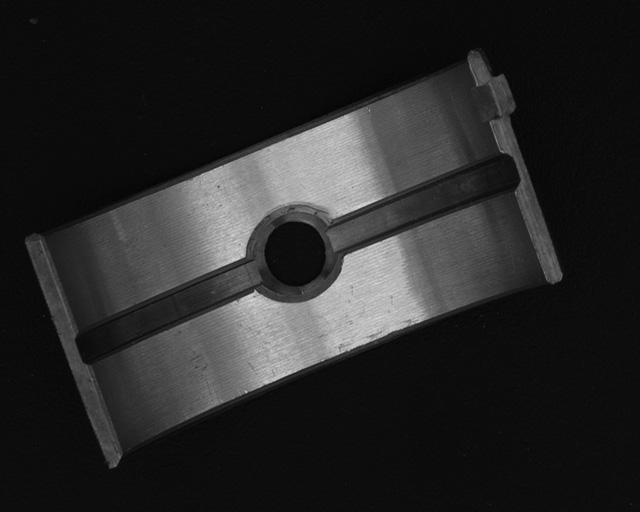gap: (75, 260, 264, 364), (331, 156, 516, 254)
hole: (254, 209, 336, 299)
